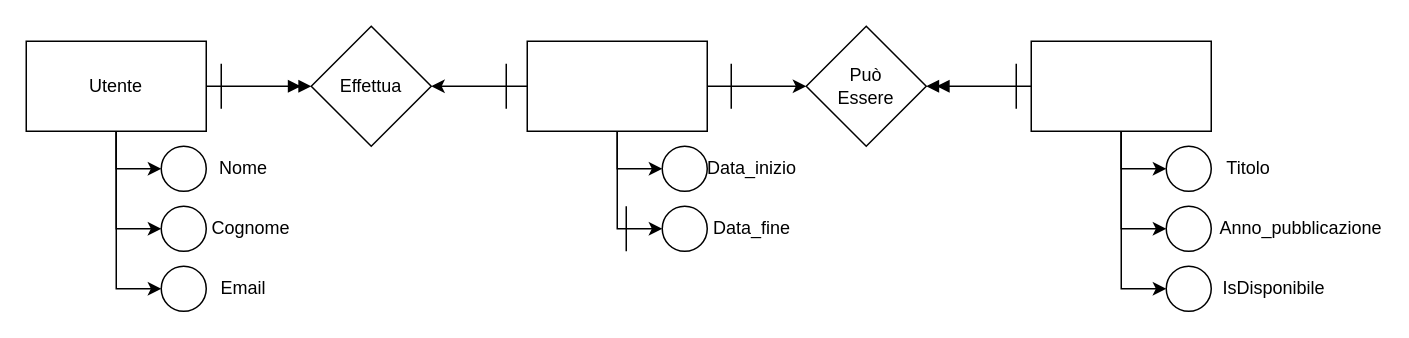
Some shapes in this 1409 by 338 pixel diagram are drawn without their labels. Here are the shapes that lost their labels. From the top down, the centre of each, then its label:
the point at 616,85: Prestito
the point at 1120,85: Libro
